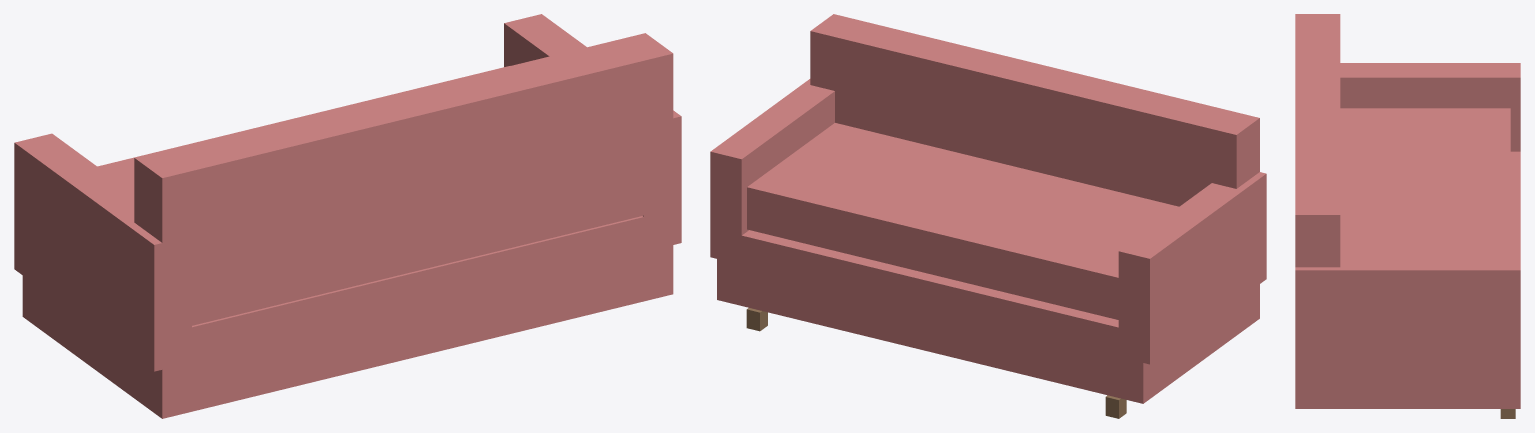
Rendered from sofa.glb.
3 renders of one model, left to right at view 1: azimuth 30°, elevation 25°; view 2: azimuth 150°, elevation 25°; view 3: azimuth 270°, elevation 25°, orthographic. The views are drawn at different scales.
Parts seen in each view (by area): view 1: sofa; view 2: sofa; view 3: sofa.
Part boxes in pixels (bbox=[...]): sofa: bbox=[14, 14, 681, 418]; sofa: bbox=[710, 14, 1266, 418]; sofa: bbox=[1295, 14, 1520, 418].
Bounding box in the file's own units: 1.96 × 0.955 × 0.9.
